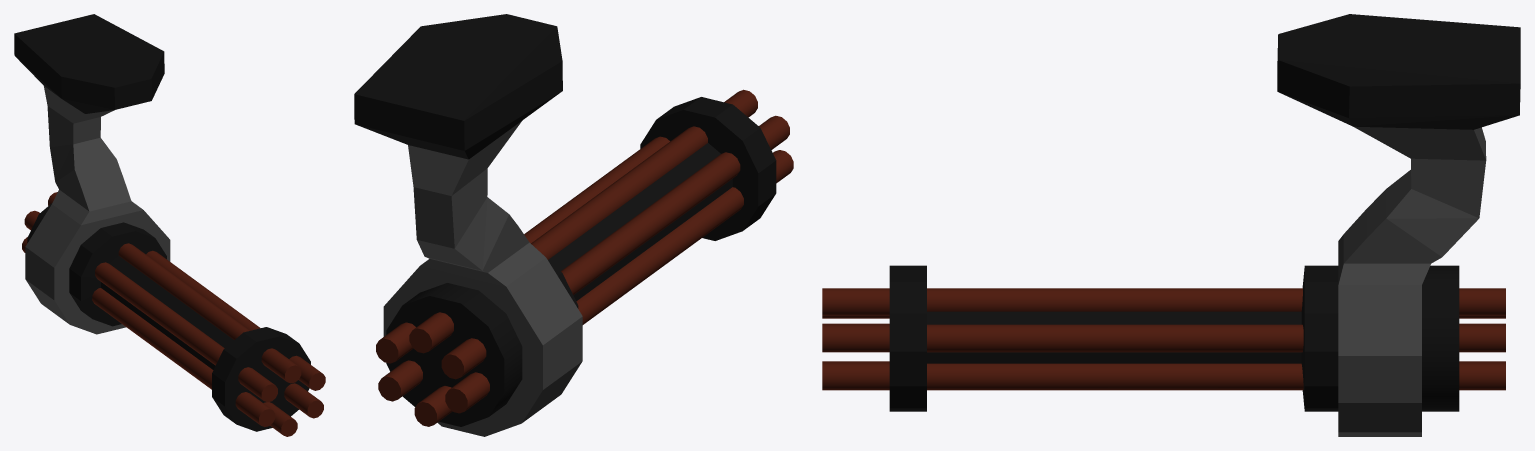
File: Cherry_tree_turret_upsidedownturned_small.FBX
3 renders of one model, left to right at view 1: azimuth 30°, elevation 25°; view 2: azimuth 150°, elevation 25°; view 3: azimuth 270°, elevation 25°, orthographic. The views are drawn at different scales.
Visible parts, largest first — view 1: Canon; view 2: Canon; view 3: Canon.
Part boxes in pixels (x1,y1,x2,y2): Canon: [14, 14, 325, 436]; Canon: [354, 14, 793, 436]; Canon: [822, 14, 1520, 436].
Bounding box in the file's own units: 8.26 × 29.89 × 17.9.
